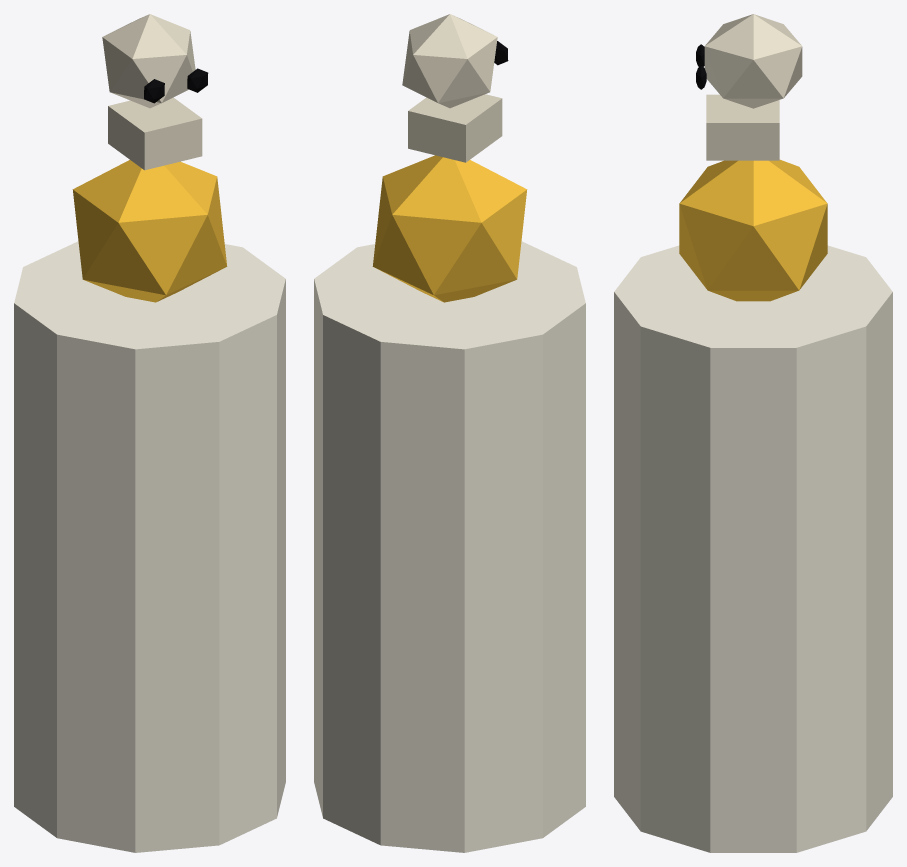
The model's file is Item_OR_Tonic_59.glb.
3 views of the same model, side by side, from view 1: azimuth 30°, elevation 25°; view 2: azimuth 150°, elevation 25°; view 3: azimuth 270°, elevation 25° (orthographic).
Visible parts, largest first — view 1: Item_OR_Tonic_59; view 2: Item_OR_Tonic_59; view 3: Item_OR_Tonic_59.
Boxes of the visible parts, x1,y1,x2,y2 form: Item_OR_Tonic_59: (14, 14, 285, 852); Item_OR_Tonic_59: (314, 14, 585, 852); Item_OR_Tonic_59: (614, 14, 892, 852).
Bounding box in the file's own units: 0.0761 × 0.248 × 0.08.
